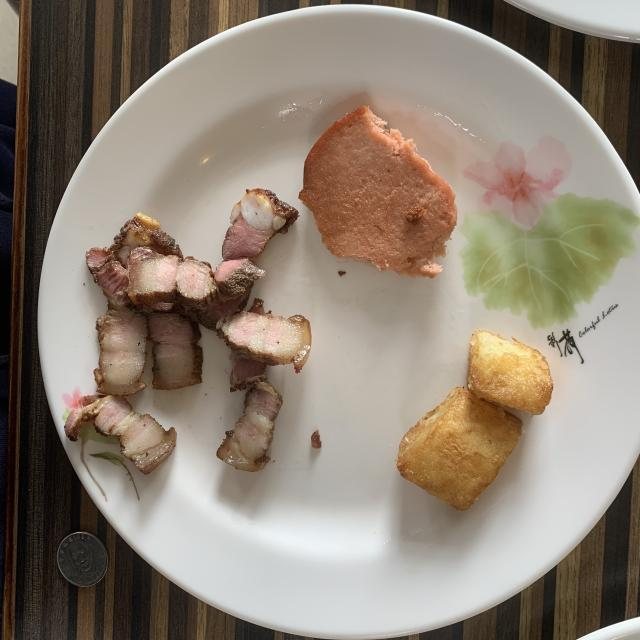Spam: (299, 106, 458, 276)
coin: (56, 531, 108, 588)
fried potato: (396, 330, 552, 511)
grilled pork: (65, 189, 311, 474)
